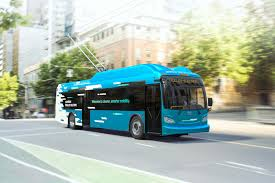bus: (55, 62, 211, 140)
